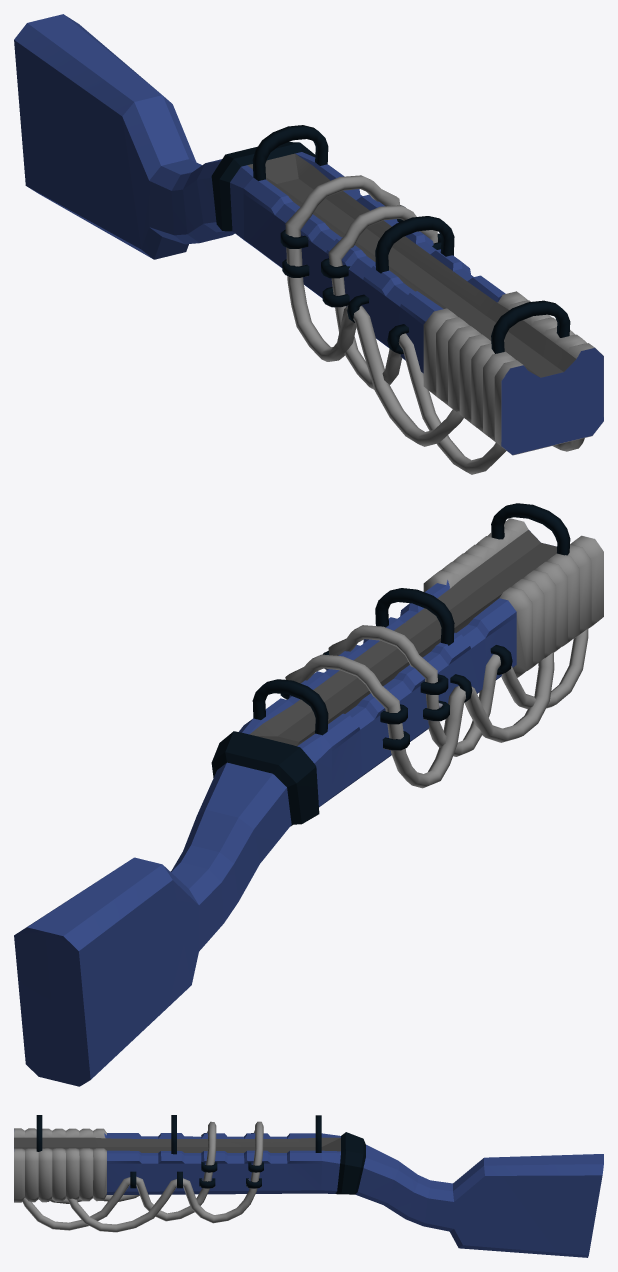
File: Grapplegun.fbx
3 views of the same model, one above another, from view 1: azimuth 30°, elevation 25°; view 2: azimuth 150°, elevation 25°; view 3: azimuth 270°, elevation 25° (orthographic). The views are drawn at different scales.
Parts seen in each view (by area): view 1: speargun001; view 2: speargun001; view 3: speargun001.
Boxes of the visible parts, <box> form: speargun001: <box>14,14,603,474</box>; speargun001: <box>14,503,603,1086</box>; speargun001: <box>14,1115,603,1257</box>.
Bounding box in the file's own units: 11.84 × 21.3 × 85.2.
Materials: 1 (1 with a texture image).
